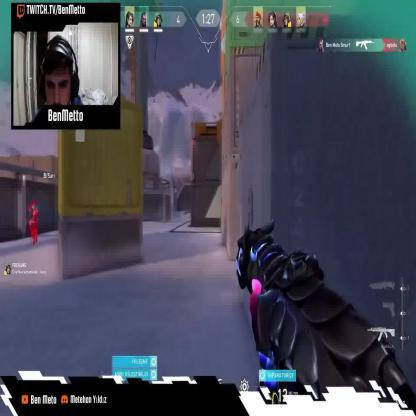enemy: (28, 199, 40, 247)
enemy_head: (31, 199, 38, 209)
